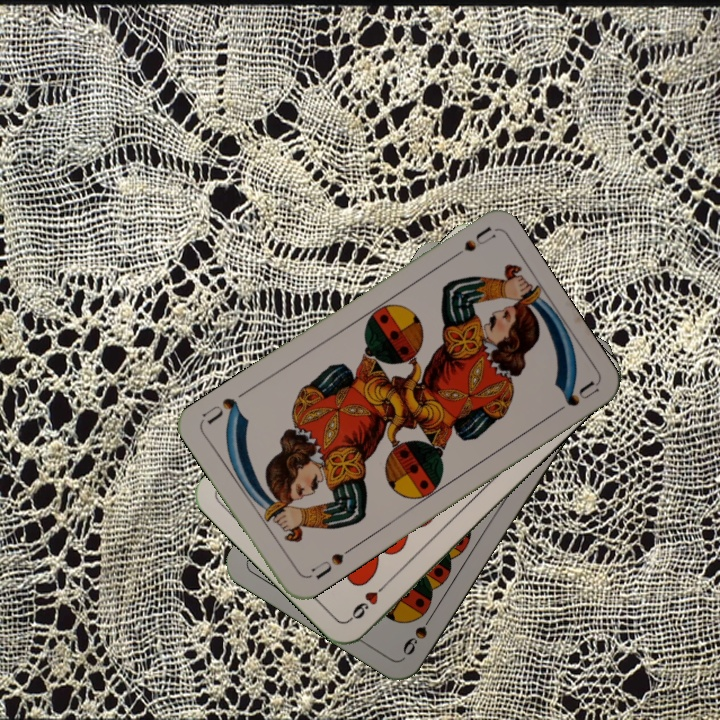H9: (344, 577, 391, 623)
S9: (398, 606, 439, 658)
SU: (442, 223, 497, 265), (307, 543, 356, 582)
